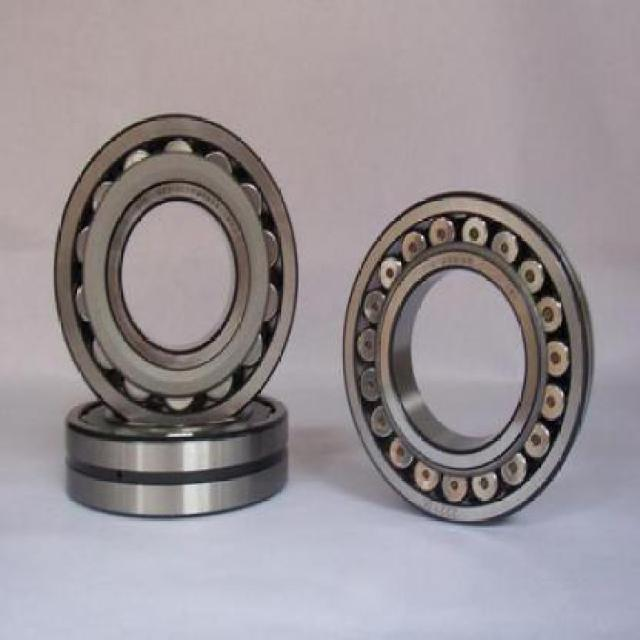Bearing: (336, 186, 596, 526), (50, 106, 299, 428), (59, 396, 294, 522)
